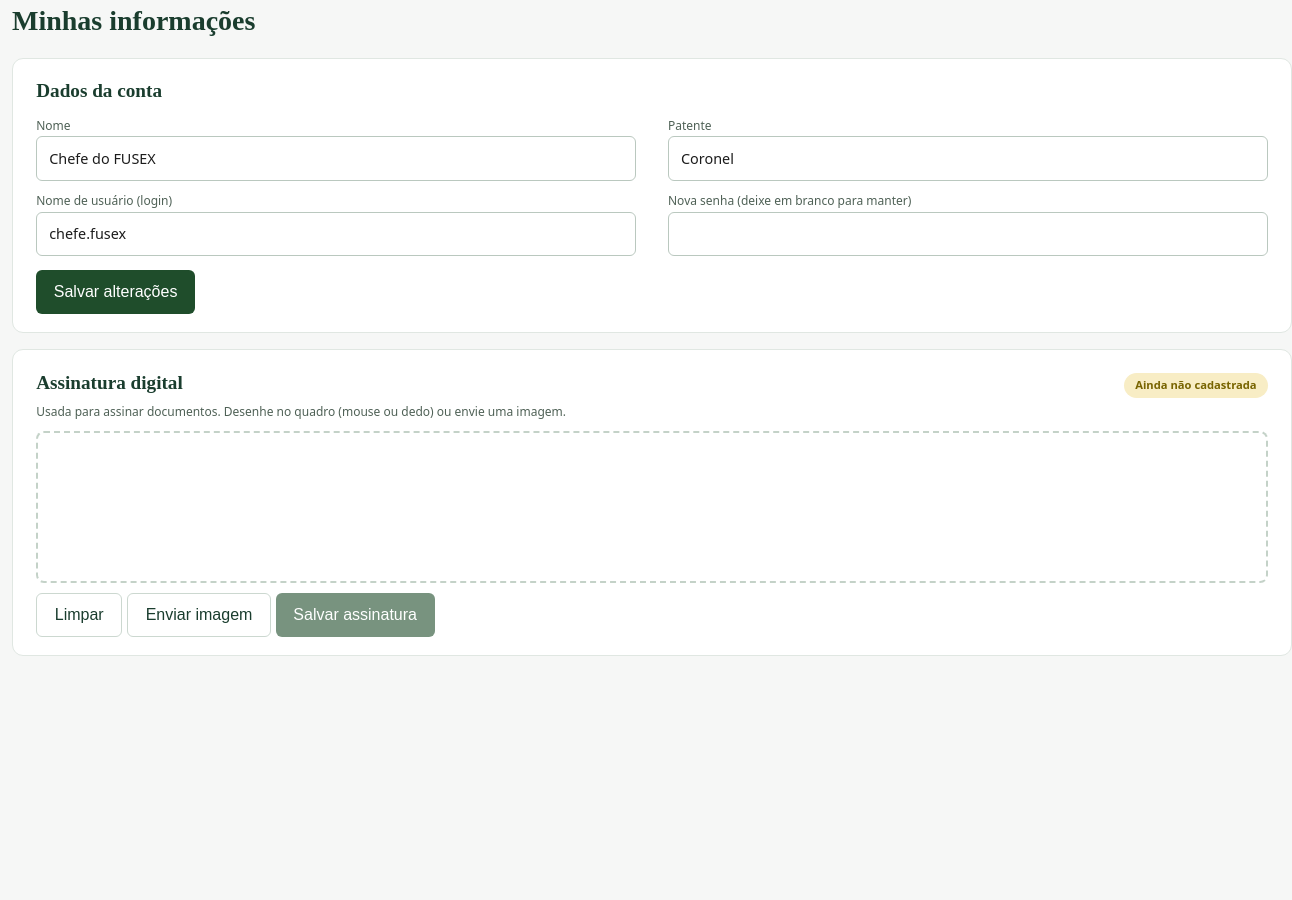
Scenario: Minhas informações do chefe › login com espaços mostra erro no campo e não envia
Replace the text in the field labelled "Nome de usuário (login)" with "chefe novo": [336, 234] box [36,212,636,256]
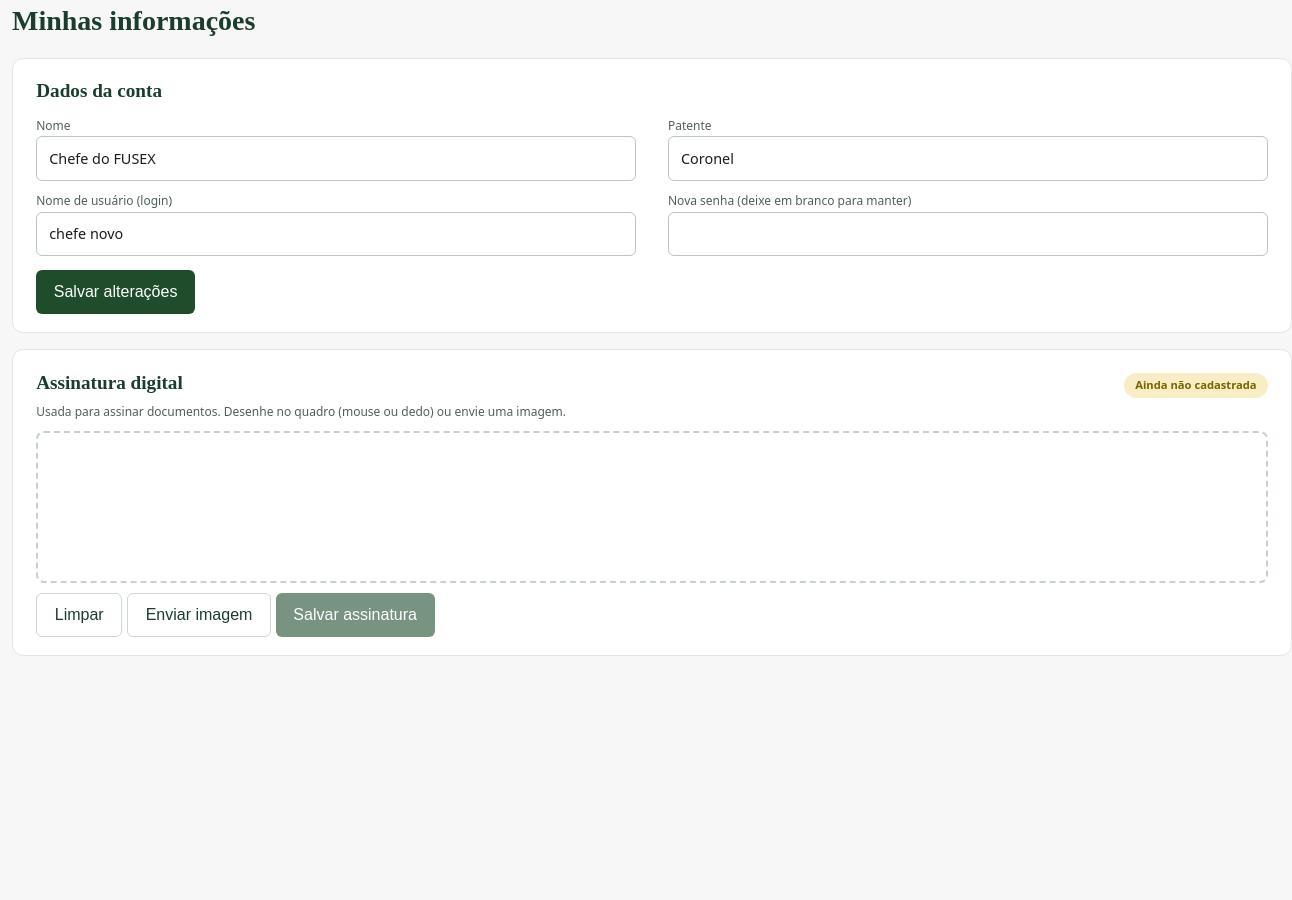
Click the button "Salvar alterações": [116, 292] box [36,270,195,314]
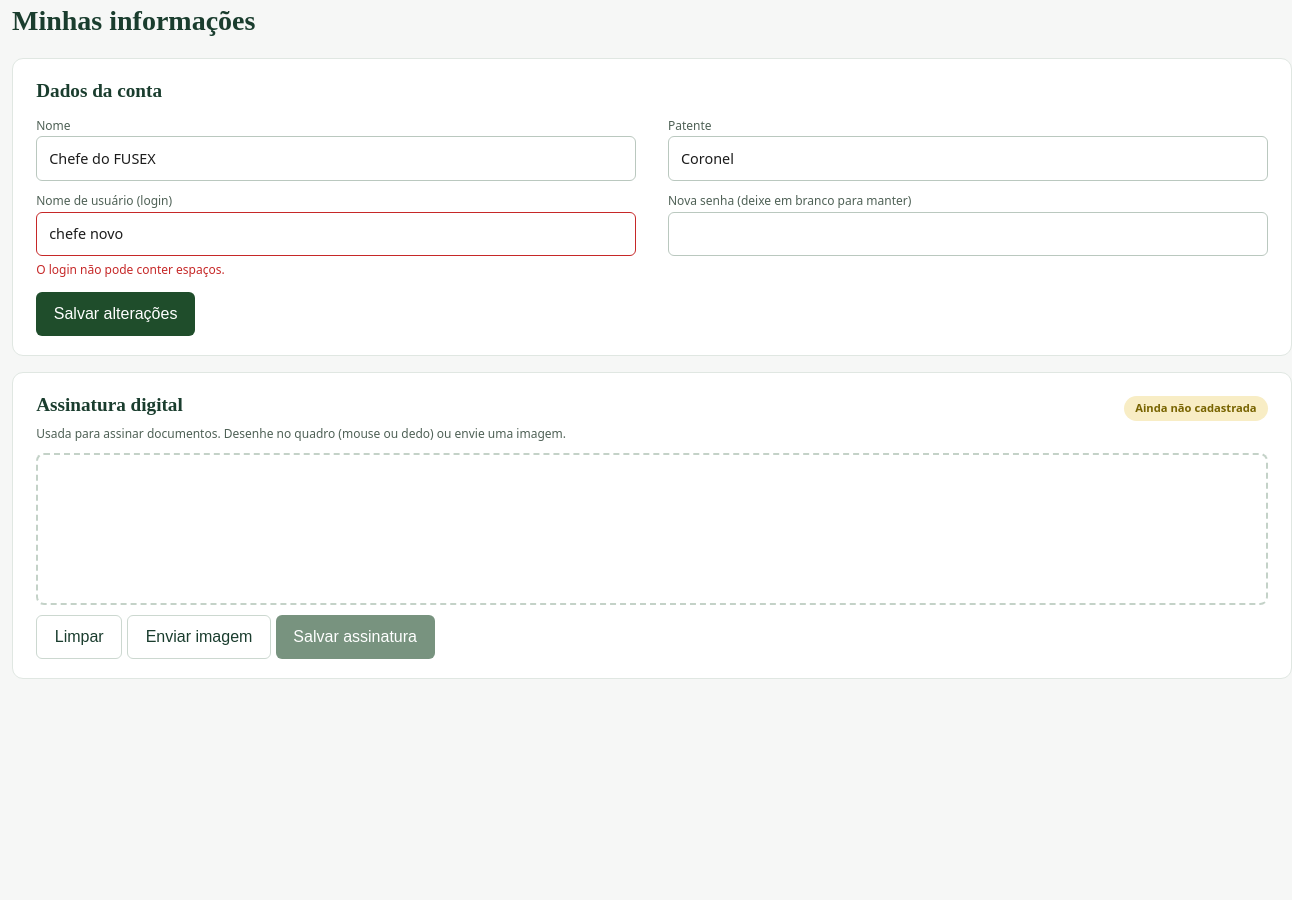
Expected: the text "O login não pode conter espaços." is shown, [36,261,225,278]
